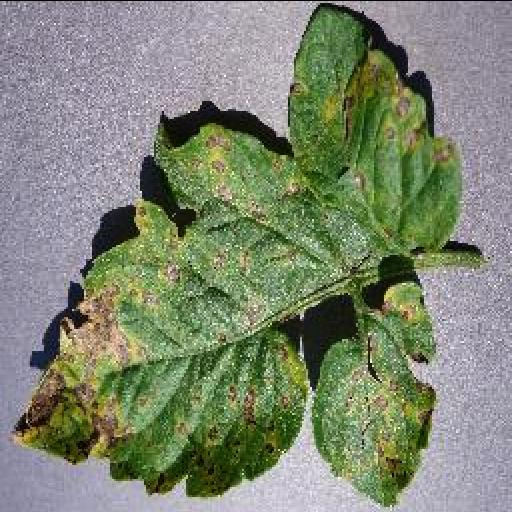disease_tomato: (13, 4, 459, 504)
